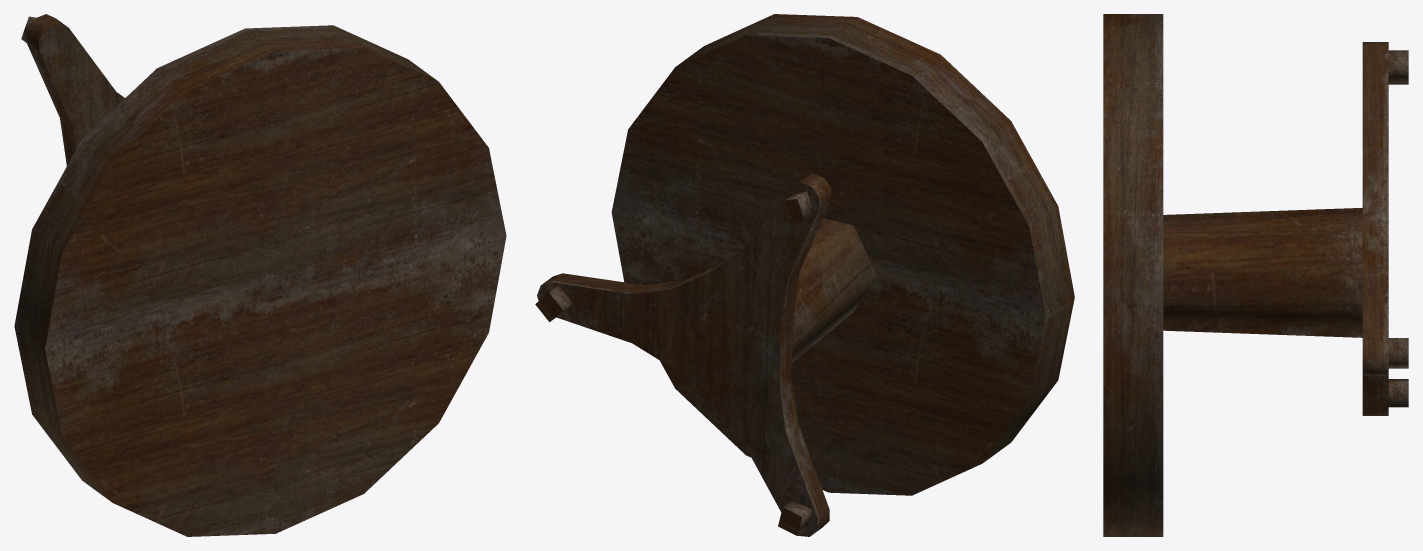
Rendered from furniture_smallcoffeetable.glb.
3 views of the same model, side by side, from view 1: azimuth 30°, elevation 25°; view 2: azimuth 150°, elevation 25°; view 3: azimuth 270°, elevation 25° (orthographic). The views are drawn at different scales.
Bounding box in the file's own units: 41.18 × 41.18 × 24.02.
1 material, 1 textured.
